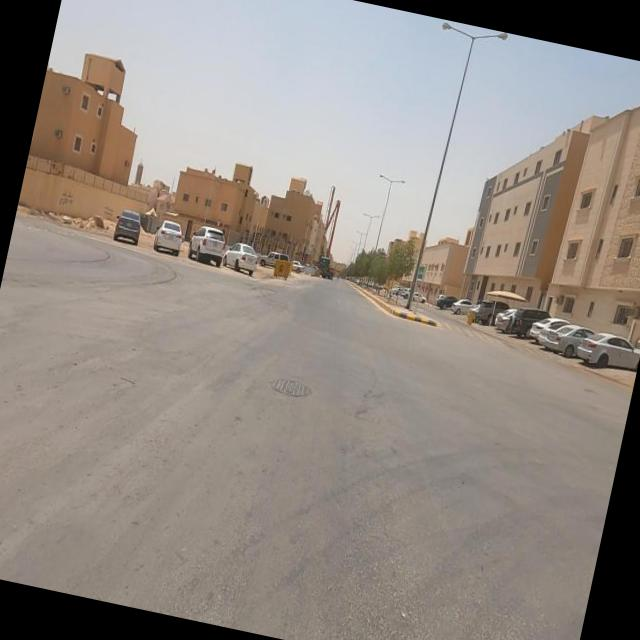debris: (32, 173, 140, 264)
